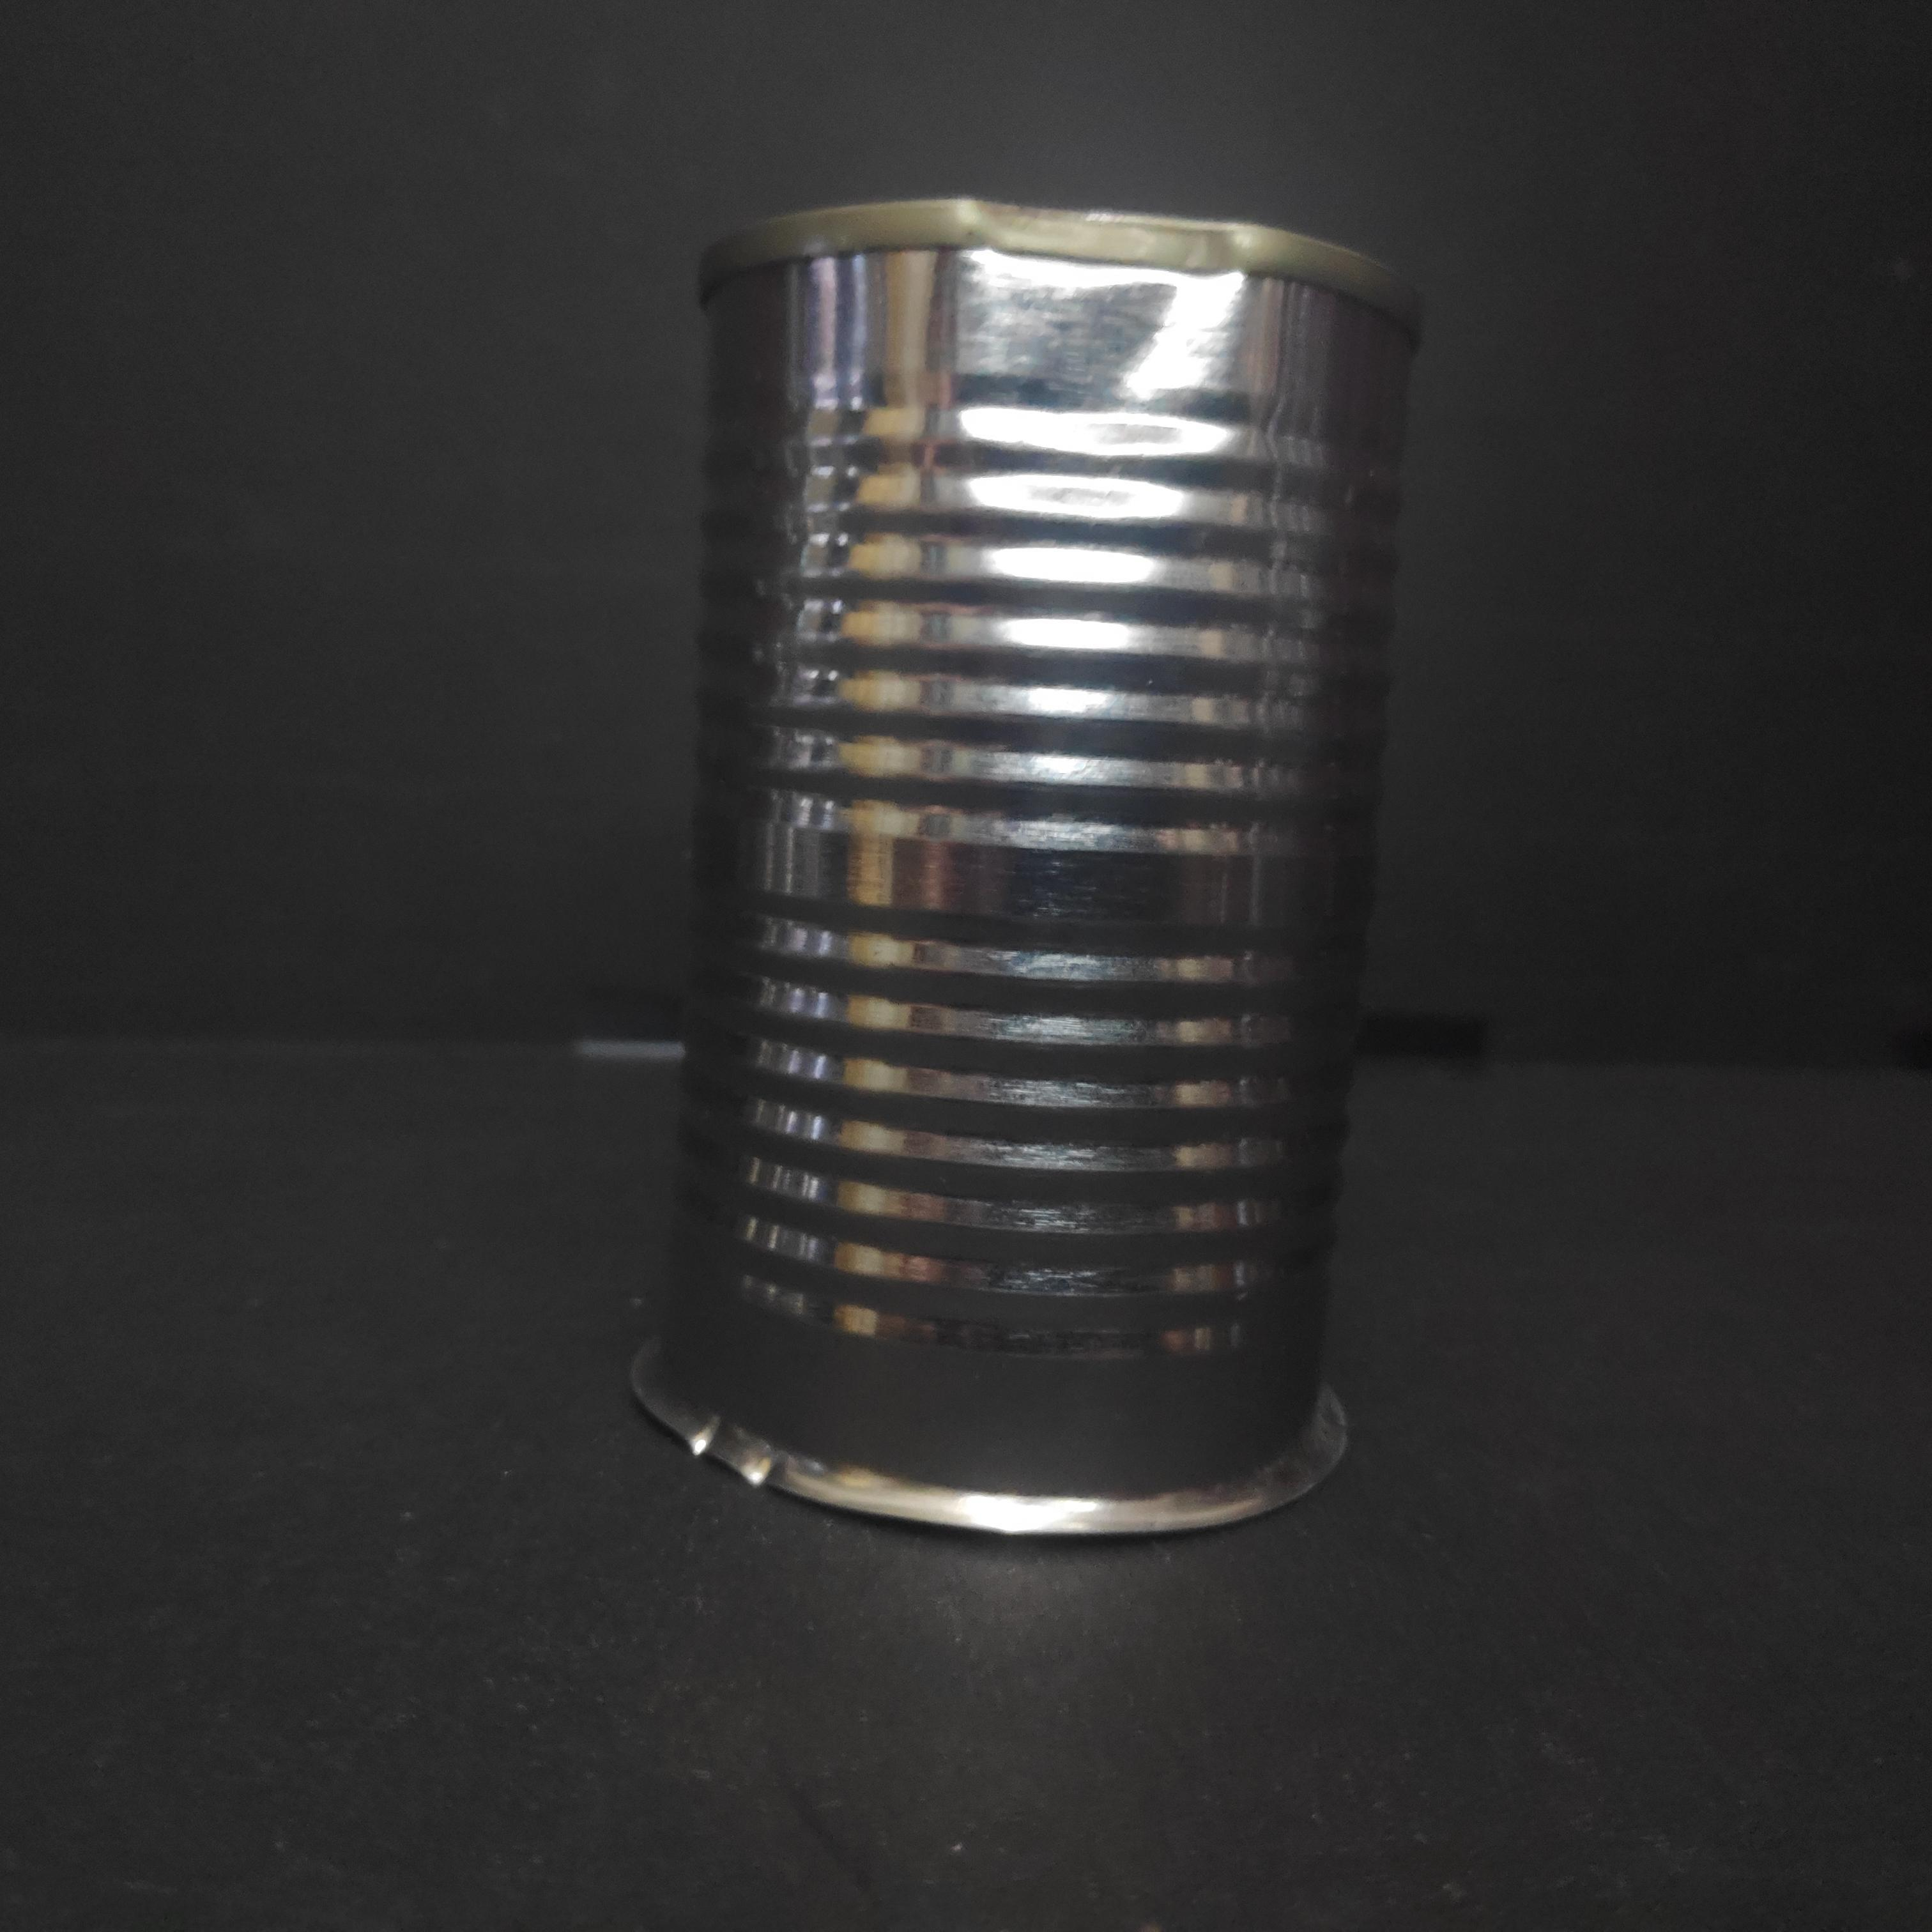Dented: (639, 173, 1428, 1562)
